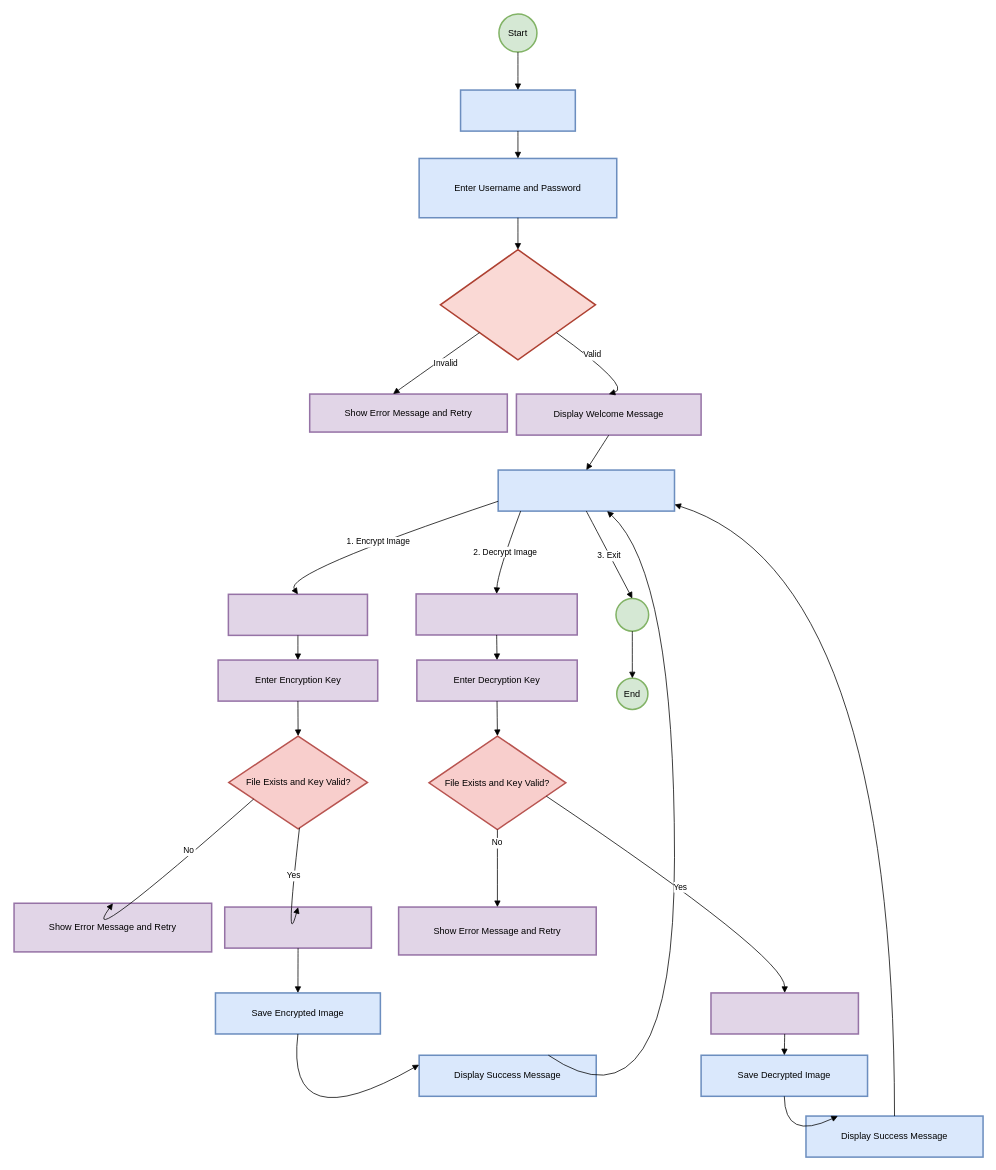
Image size: 996x1170. Some labels were removed from this diagram. Here are the shapes that lost their labels. From the top down, the centre of each, then its label:
At pixel 517 110: "Login Screen".
At pixel 517 304: "Check Password Strength".
At pixel 586 490: "Main UI - Choose Option".
At pixel 297 614: "Select Image File".
At pixel 496 614: "Select Encrypted File".
At pixel 632 614: "Exit".
At pixel 298 927: "AES Encrypt Image".
At pixel 784 1013: "AES Decrypt Image".
